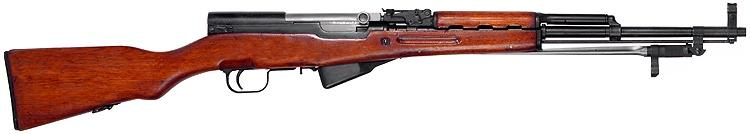blood: (0, 0, 746, 133)
